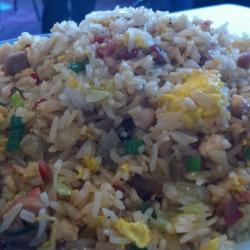rice: (1, 26, 241, 240)
